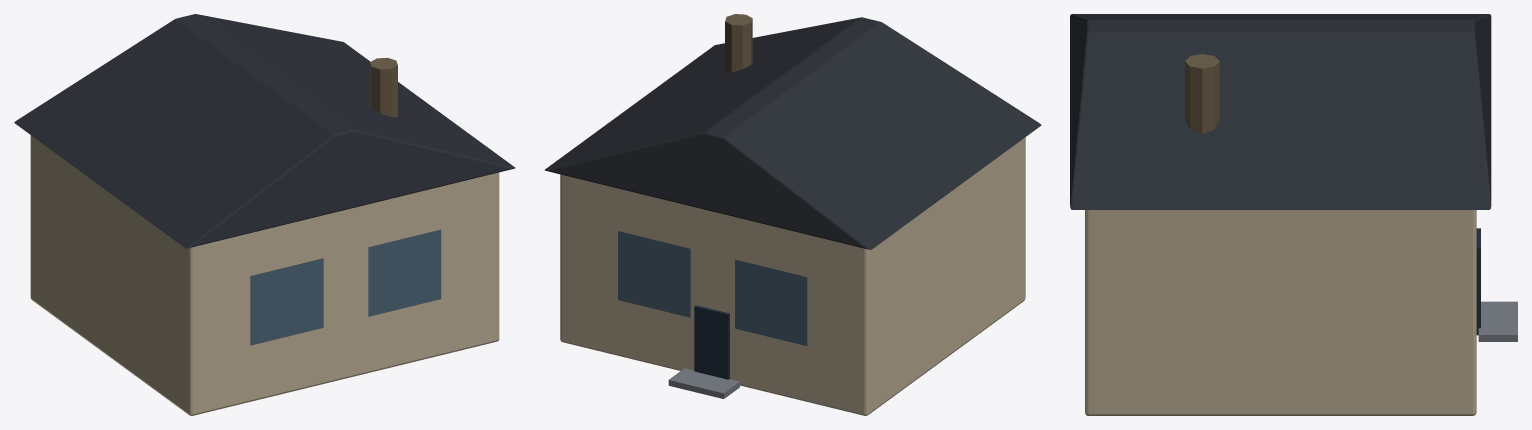
File: bld_house_a.glb
3 views of the same model, side by side, from view 1: azimuth 30°, elevation 25°; view 2: azimuth 150°, elevation 25°; view 3: azimuth 270°, elevation 25° (orthographic). The views are drawn at different scales.
Visible parts, largest first — view 1: Shell, Roof, Windows_y-, Chimney; view 2: Roof, Shell, Windows_y+, Door, Chimney, Step; view 3: Shell, Roof, Chimney, Step, Door.
Part boxes in pixels (x1,y1,x2,y2): Shell: (30, 135, 499, 415); Roof: (14, 14, 515, 248); Windows_y-: (250, 229, 441, 345); Chimney: (370, 57, 397, 117); Roof: (544, 17, 1041, 249); Shell: (560, 137, 1025, 415); Windows_y+: (618, 231, 807, 345); Door: (694, 305, 729, 379); Chimney: (725, 14, 752, 72); Step: (668, 368, 739, 398); Shell: (1085, 210, 1476, 415); Roof: (1070, 14, 1491, 209); Chimney: (1185, 54, 1219, 133); Step: (1478, 301, 1517, 341); Door: (1476, 228, 1480, 335).
Bounding box in the file's own units: 10.64 × 8 × 10.29.
